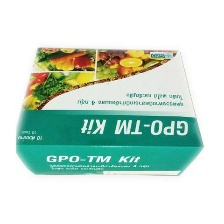book: (6, 41, 207, 178)
